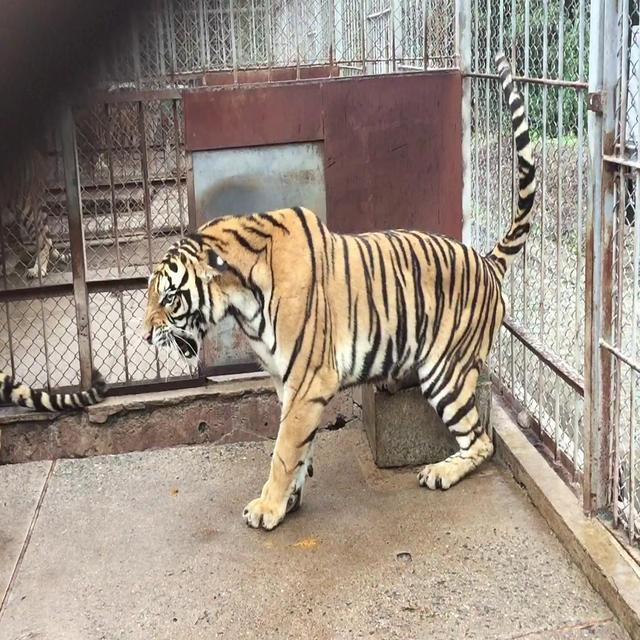tiger: (125, 40, 555, 541), (0, 123, 70, 293), (0, 342, 123, 436)
